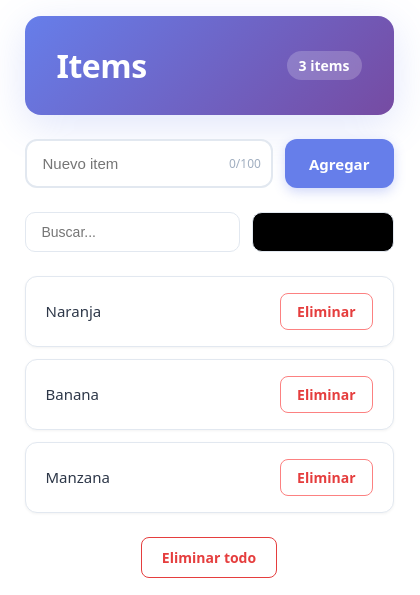
Test case: Componente App › Flujos Exitosos (Happy Paths) › debería eliminar un item correctamente y actualizar la lista
Expected: the text "Manzana" is shown, [46, 466, 110, 489]
What coordinates should you click on to do the following:
click the button "Eliminar" in the row of "Manzana"
I would click on:
 (326, 478)
Its box is [280, 459, 372, 496].
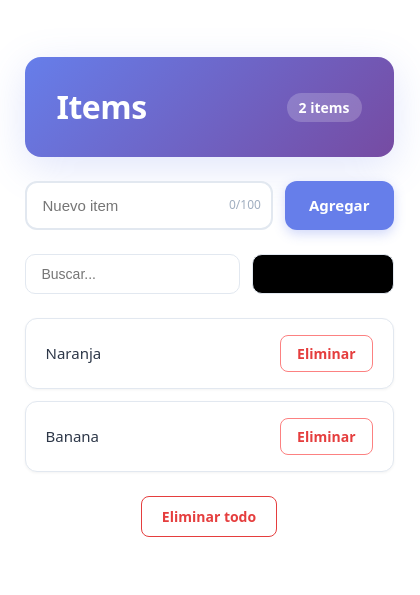
Expected: the text "Manzana" is gone
Expected: the text "2 items" is shown, [286, 92, 362, 122]
